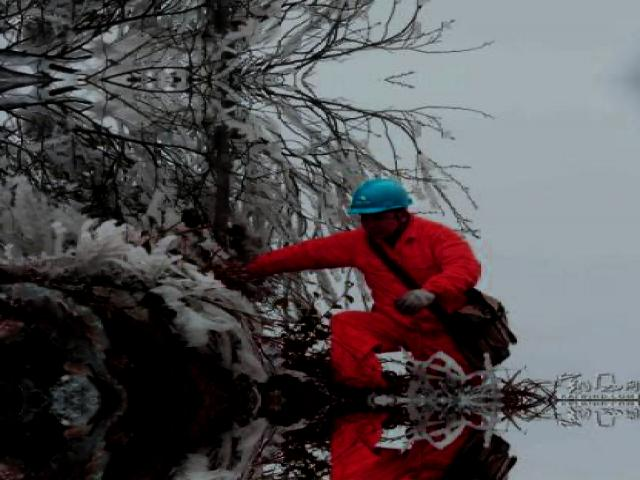Helmet: (342, 174, 413, 223)
